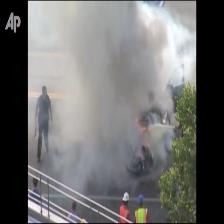smoke: (59, 0, 195, 202)
